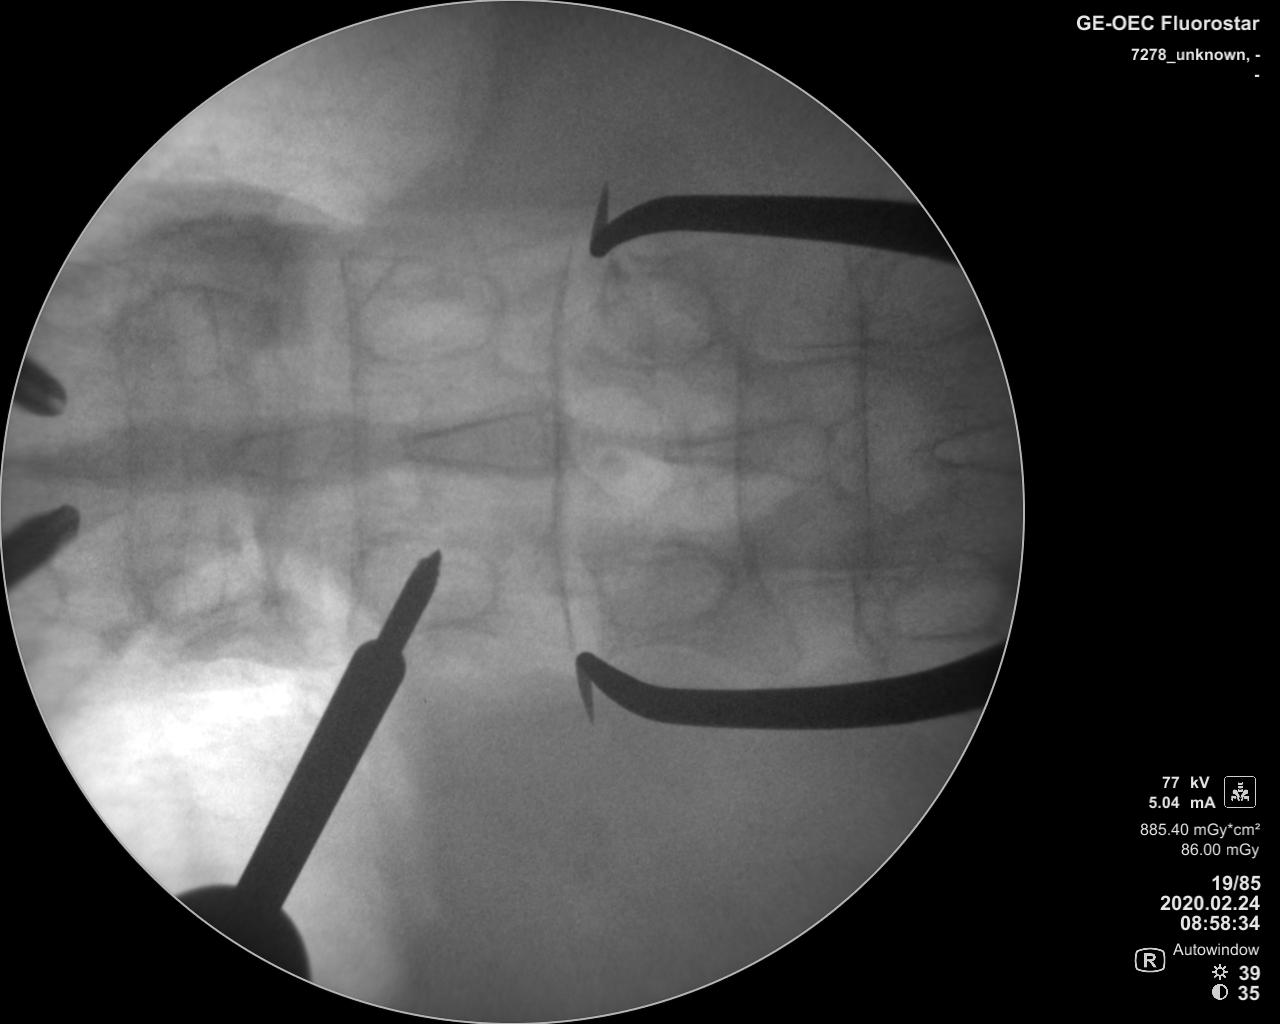eyes: (354, 250, 505, 368), (118, 283, 274, 382), (578, 535, 735, 628), (583, 267, 724, 370), (350, 535, 501, 628), (879, 551, 1004, 634), (140, 557, 247, 628)
line: (543, 230, 578, 649), (841, 264, 884, 580), (334, 247, 364, 637), (727, 288, 765, 574)
nose: (17, 420, 217, 496), (661, 410, 838, 486), (397, 408, 577, 482), (219, 416, 387, 486)
